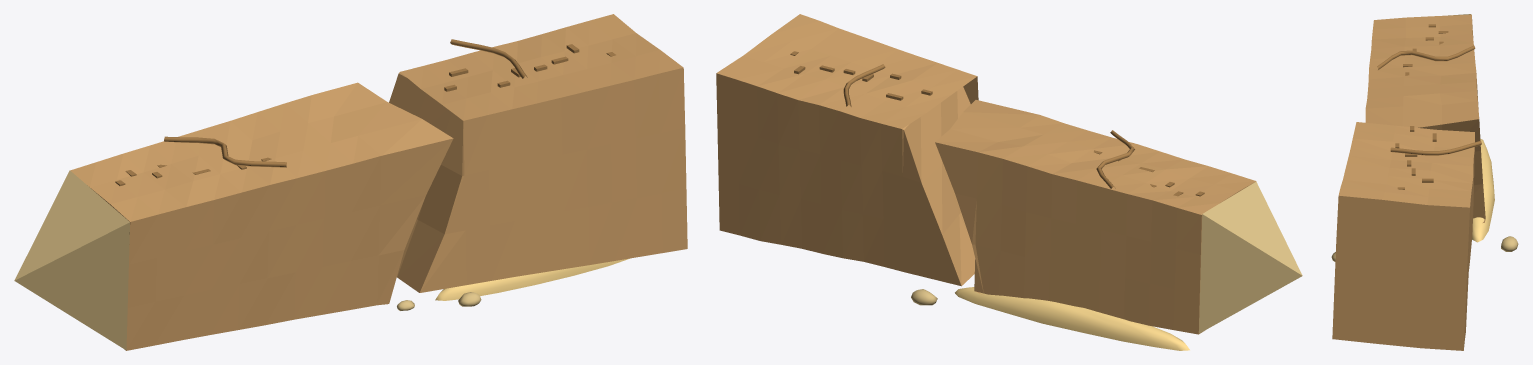
The model's file is detail_broken_obelisk.glb.
The picture shows the model from 3 angles, left to right: view 1: azimuth 30°, elevation 25°; view 2: azimuth 150°, elevation 25°; view 3: azimuth 270°, elevation 25°; orthographic projection. The views are drawn at different scales.
Parts seen in each view (by area): view 1: stone, plaster; view 2: stone, plaster; view 3: stone, plaster.
Part boxes in pixels (left/top/right/bottom): stone: left=14, top=14, right=687, bottom=350; plaster: left=435, top=258, right=630, bottom=300; stone: left=716, top=14, right=1302, bottom=334; plaster: left=955, top=287, right=1189, bottom=350; stone: left=1331, top=14, right=1518, bottom=350; plaster: left=1472, top=138, right=1494, bottom=242.
Size of the model in its own units: 1.4 by 0.4 by 0.45.
